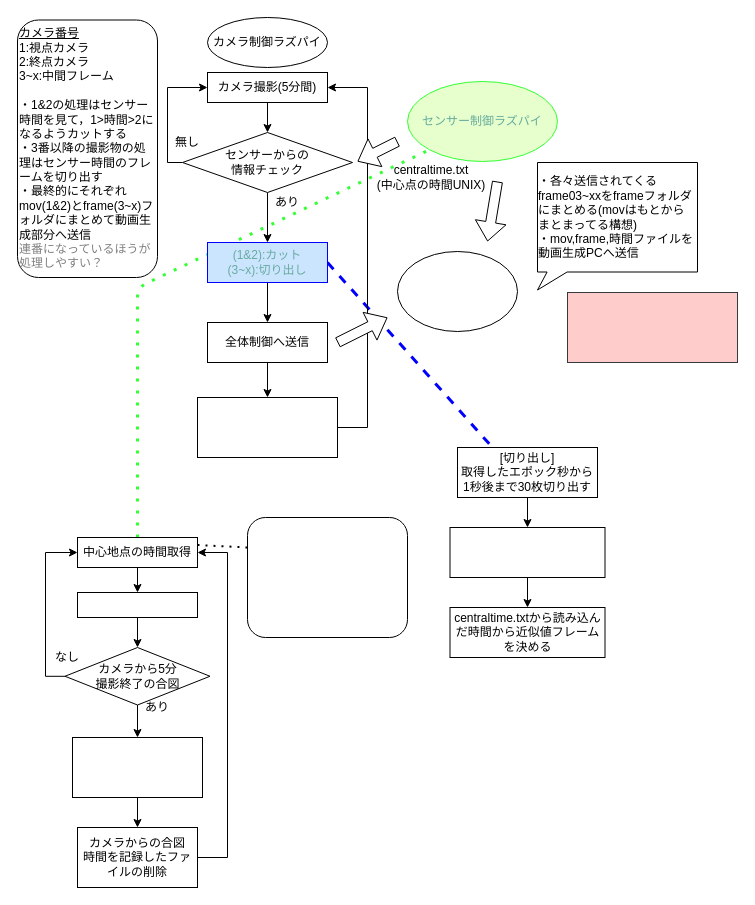
Some shapes in this 755 by 905 pixel diagram are drawn without their labels. The centre of each missing label's shape, as x and y in pixels:
"mov" or "frame"の削除 センサーの時間ファイル削除: (x=267, y=427)
エポックをミリ秒まで取得は可能だけれど，ffmpegの方がミリ秒まで反応しない カットの段階で30枚(1秒間)切り出して近似値でフレームを決める？: (x=327, y=577)
センサー用と全体制御ラズパイは一緒でもいい気が: (x=652, y=327)
ファイルへ追記: (x=137, y=605)
中心地点の時間を記録したファイルを各カメララズパイへ送信: (x=137, y=767)
全体制御ラズパイ: (x=457, y=291)
切り出した30枚にそれぞれフレーム番号33x(ミリ秒)を: (x=527, y=552)
